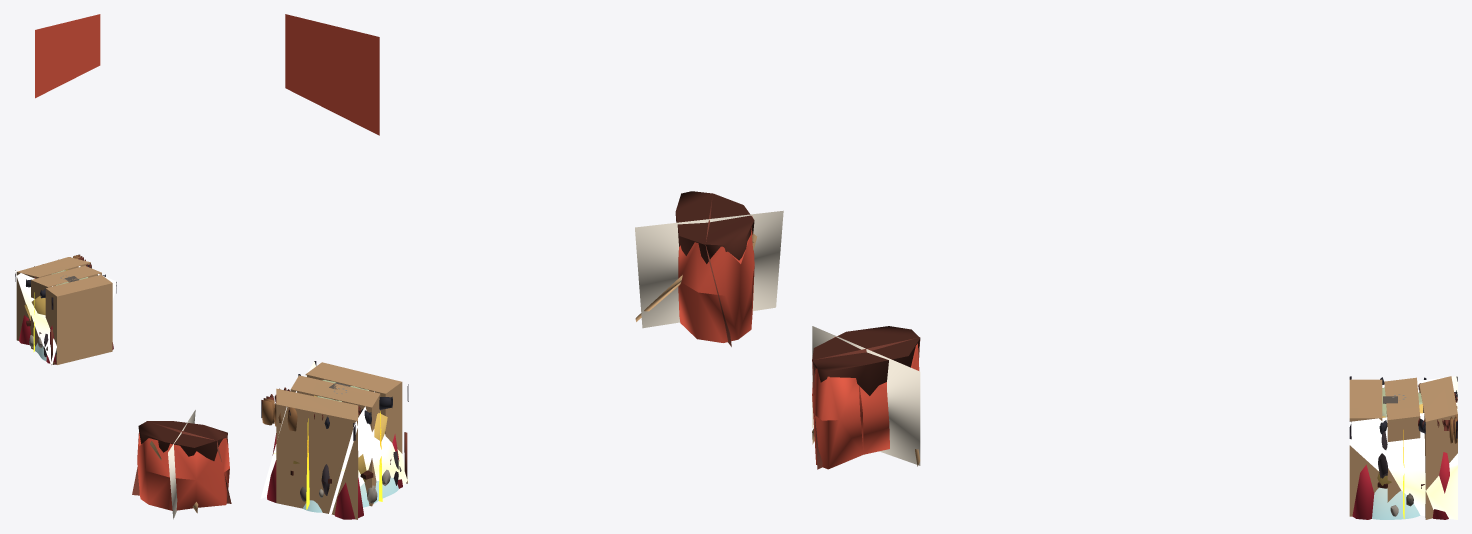
The model's file is ile-forteresse-v4-leger.glb.
3 views of the same model, side by side, from view 1: azimuth 30°, elevation 25°; view 2: azimuth 150°, elevation 25°; view 3: azimuth 270°, elevation 25° (orthographic). The views are drawn at different scales.
Visible parts, largest first — view 1: forteresse_decor, forteresse_sloop, forteresse_drapeau; view 2: forteresse_decor, forteresse_sloop, forteresse_drapeau, forteresse_terrain; view 3: forteresse_decor, forteresse_sloop, forteresse_terrain.
Boxes of the visible parts, x1,y1,x2,y2 form: forteresse_decor: (14,254,117,365); forteresse_sloop: (132,410,231,519); forteresse_drapeau: (35,14,100,98); forteresse_decor: (260,361,409,519); forteresse_sloop: (635,191,783,346); forteresse_drapeau: (285,14,379,135); forteresse_terrain: (303,379,398,512); forteresse_decor: (1349,376,1457,519); forteresse_sloop: (812,326,920,469); forteresse_terrain: (1372,387,1422,519).
Bounding box in the file's own units: 4.24 × 9.4 × 11.92.
